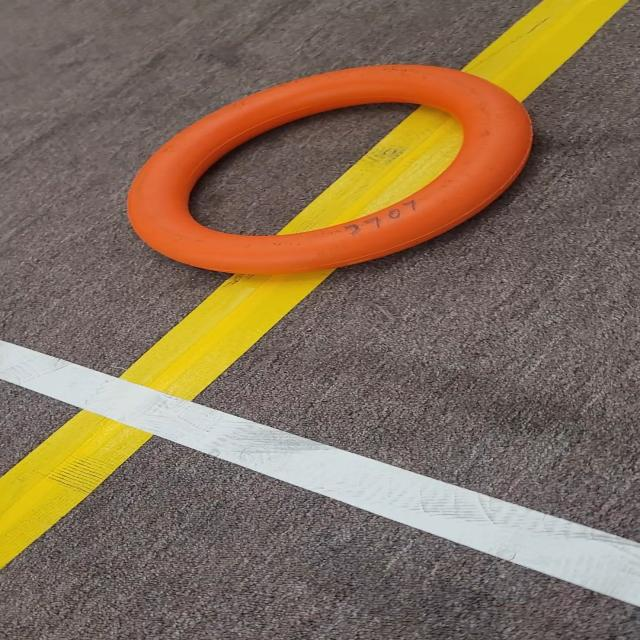note: (101, 57, 563, 292)
